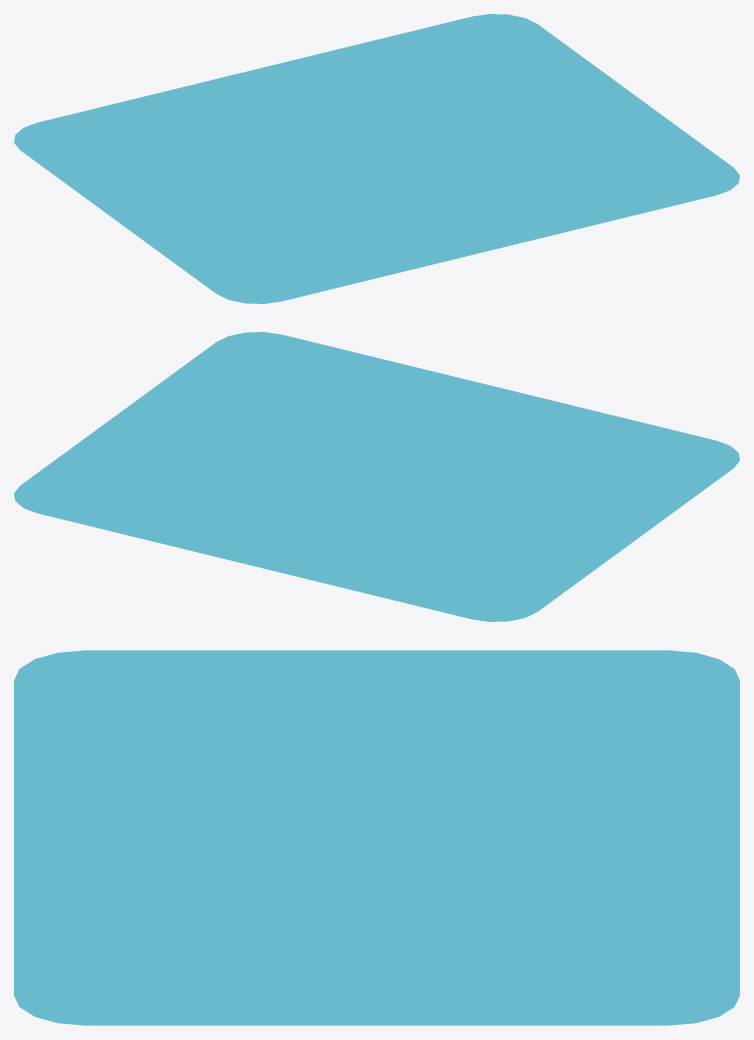
Rendered from colormat.fbx.
3 renders of one model, top to bottom at view 1: azimuth 30°, elevation 25°; view 2: azimuth 150°, elevation 25°; view 3: azimuth 270°, elevation 25°, orthographic. The views are drawn at different scales.
Parts seen in each view (by area): view 1: colourmat; view 2: colourmat; view 3: colourmat.
Part boxes in pixels (left/top/right/bottom): colourmat: left=14, top=14, right=739, bottom=303; colourmat: left=14, top=332, right=739, bottom=621; colourmat: left=14, top=650, right=739, bottom=1025.
Size of the model in its own units: 72.6 by 9.67e-06 by 59.38.
